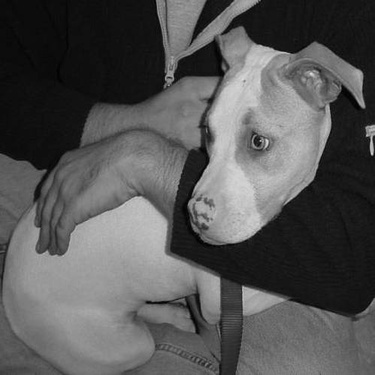dog: (1, 21, 372, 372)
